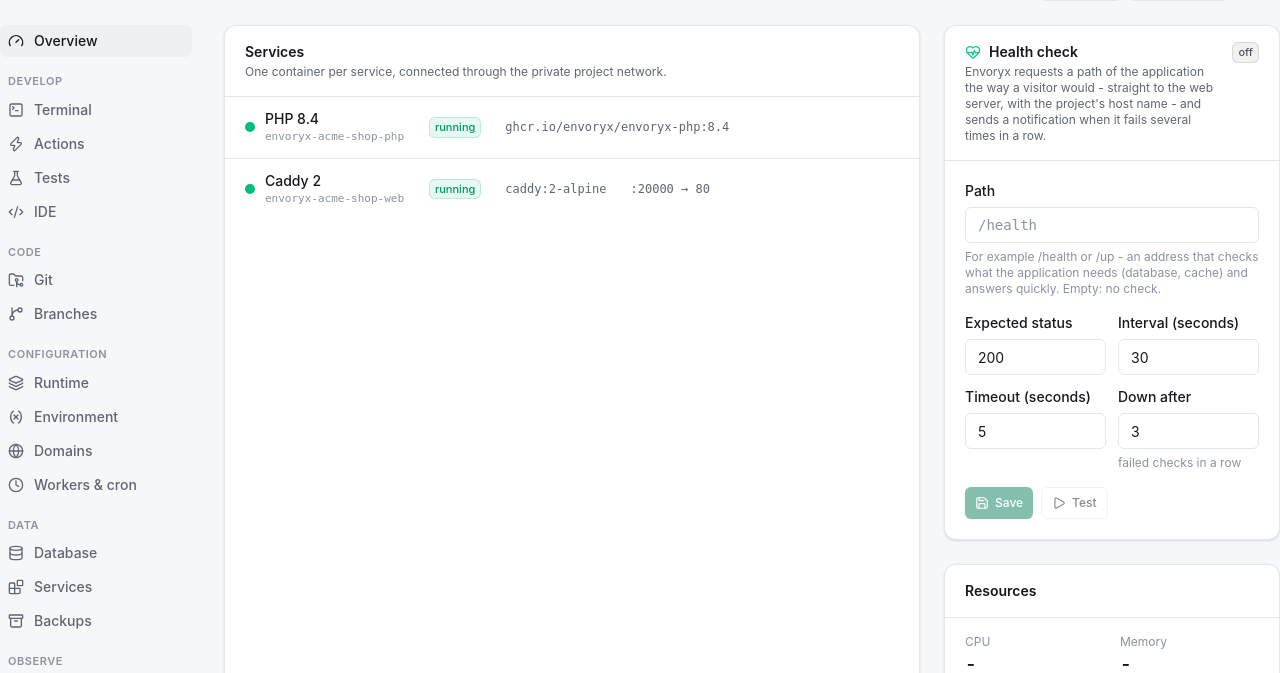
the UI at the plan's limits › offers only the runtimes the plan includes, and those the project has
Click the link "Runtime" at (48, 382), box [8,374,89,390]
(page scrolled)
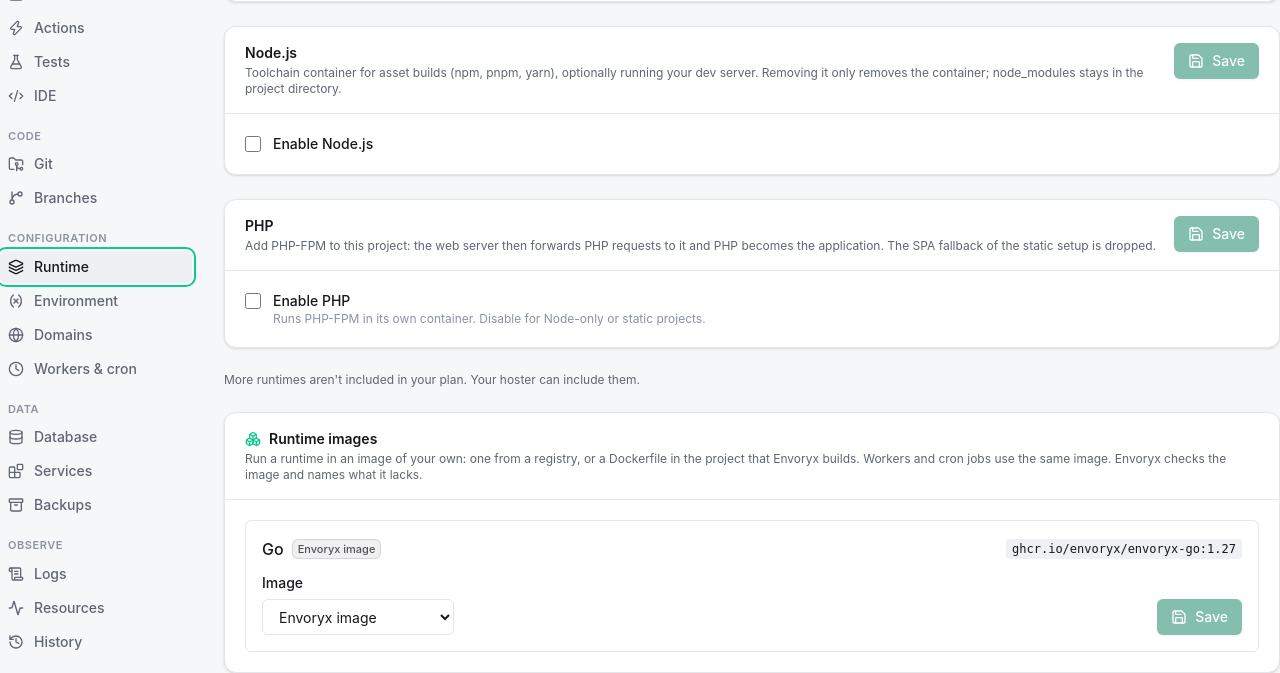
Check: the heading "Node.js" is shown, box [245,44,297,61]
Check: the heading "PHP" is shown, box [245,217,274,234]
Check: the text ".NET" is gone
